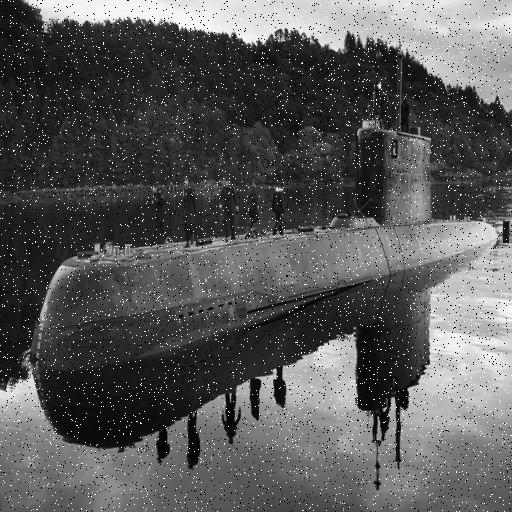submarine: (23, 46, 507, 391)
